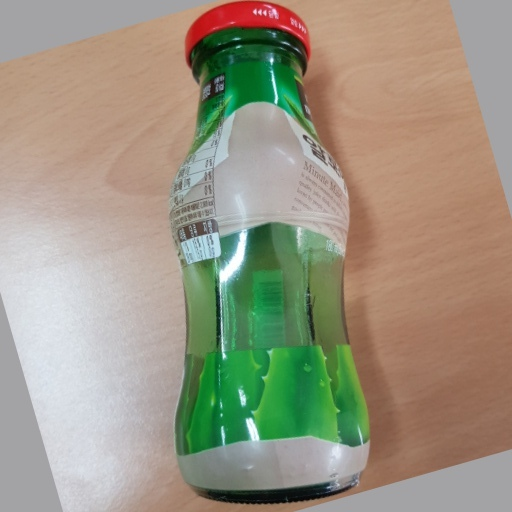Glass_4: (167, 2, 372, 501)
